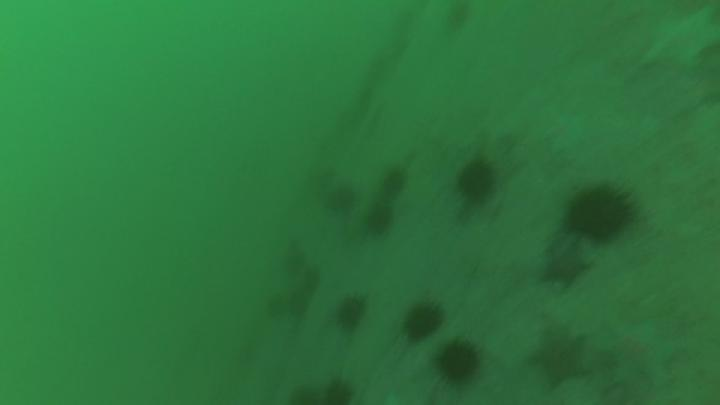echinus: (461, 315, 706, 405), (559, 175, 646, 251), (429, 331, 491, 391), (450, 153, 509, 208), (392, 294, 448, 346), (328, 293, 370, 339), (359, 200, 398, 237), (376, 165, 414, 198), (320, 374, 360, 405), (285, 382, 322, 405)
starfish: (611, 316, 686, 396), (523, 320, 595, 392), (538, 232, 598, 293)
